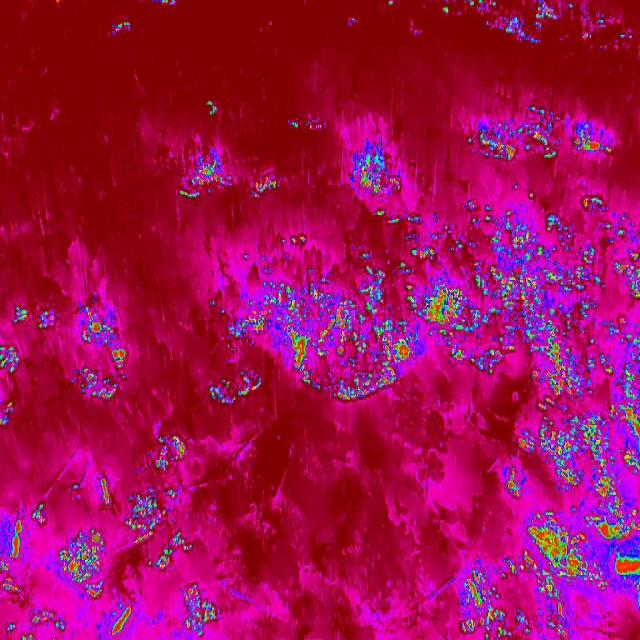fire: (205, 188, 640, 423), (2, 437, 228, 640), (457, 419, 640, 640), (0, 296, 133, 426), (427, 0, 640, 70), (466, 99, 621, 179), (175, 143, 282, 216), (340, 136, 410, 206), (109, 18, 134, 38)
